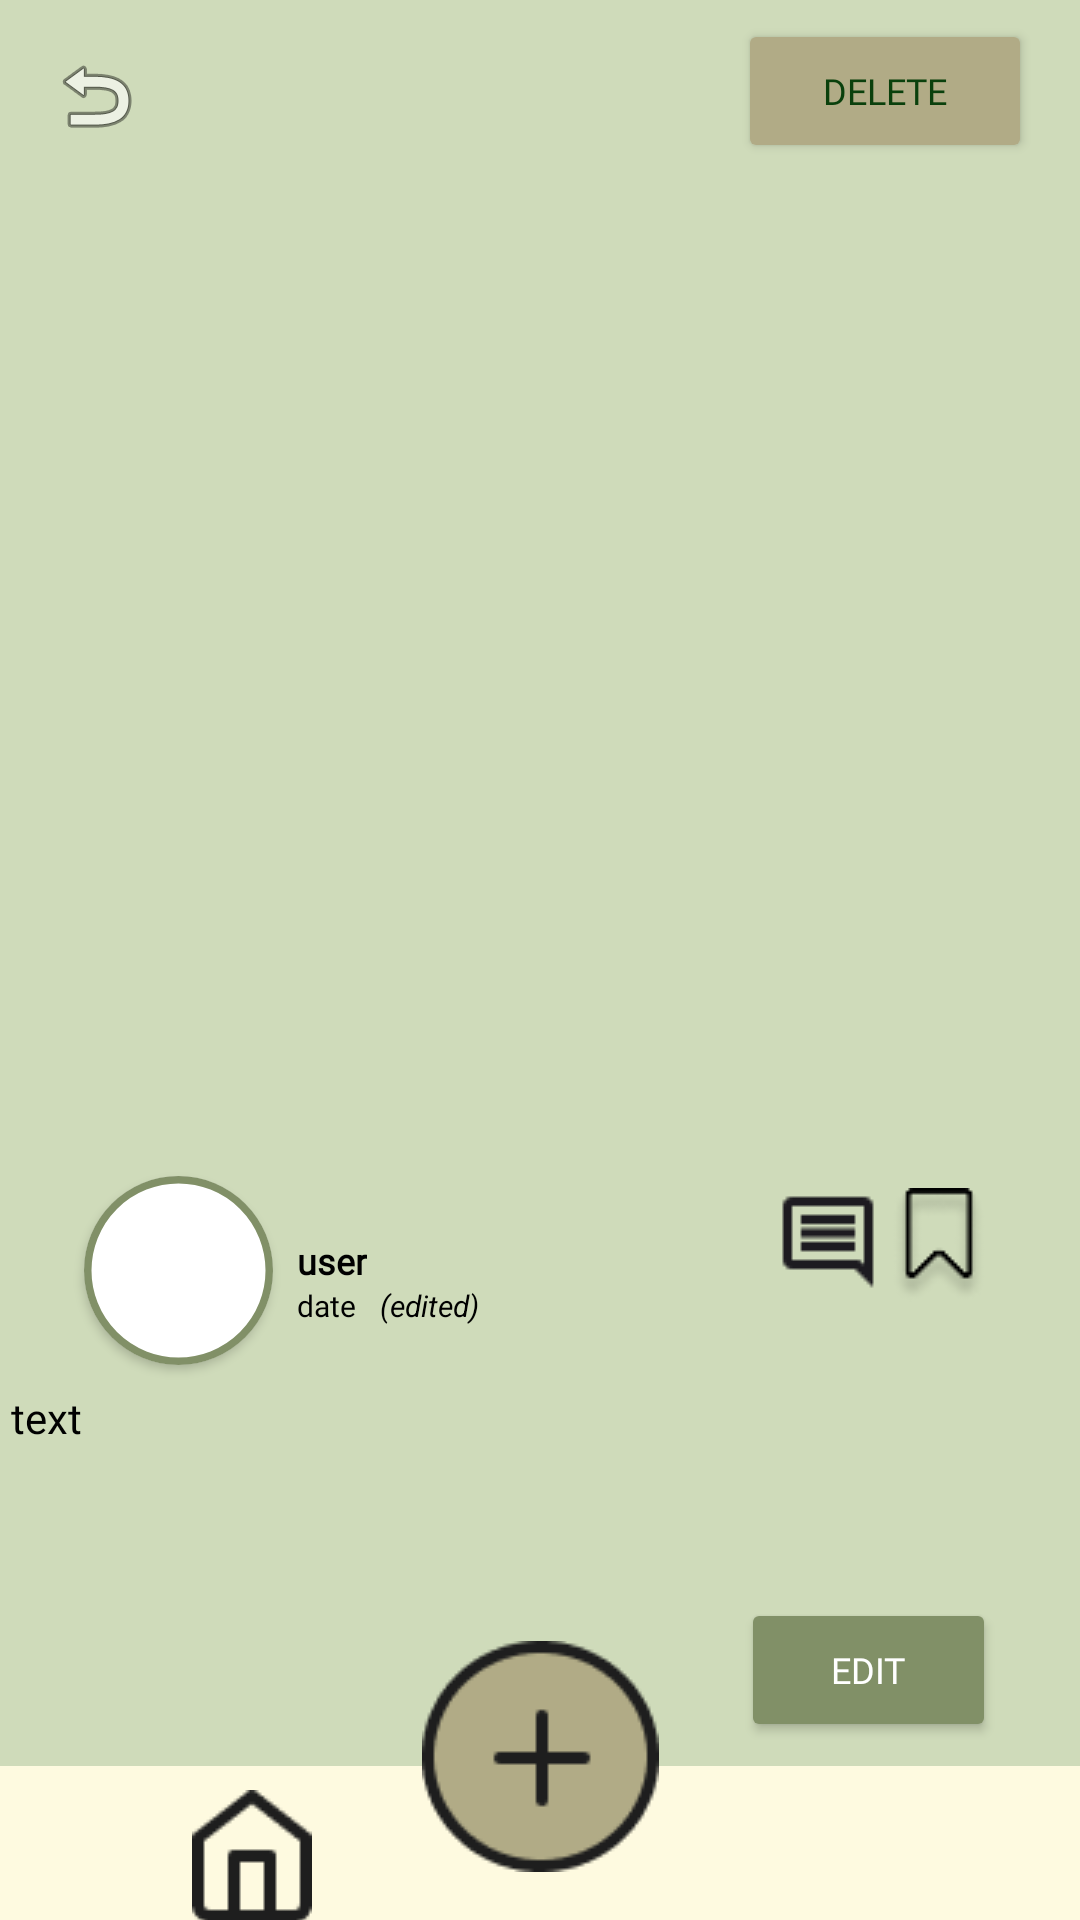

Icon click points for this 1080*1920 phone screenshot, format (x=x, y=y):
add: (x=540, y=1756)
comment: (x=828, y=1242)
home: (x=252, y=1855)
revert: (x=97, y=96)
unsaved photo: (x=939, y=1237)
